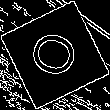O_E: (24, 26, 86, 84)
